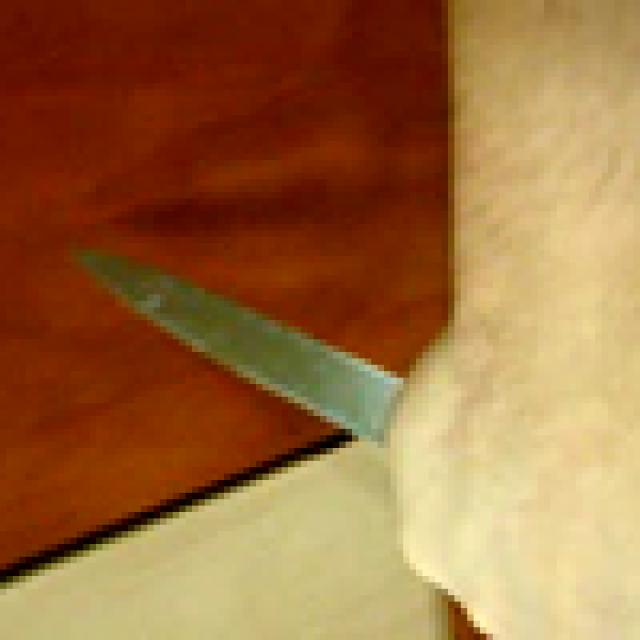Knife: (77, 243, 410, 442)
